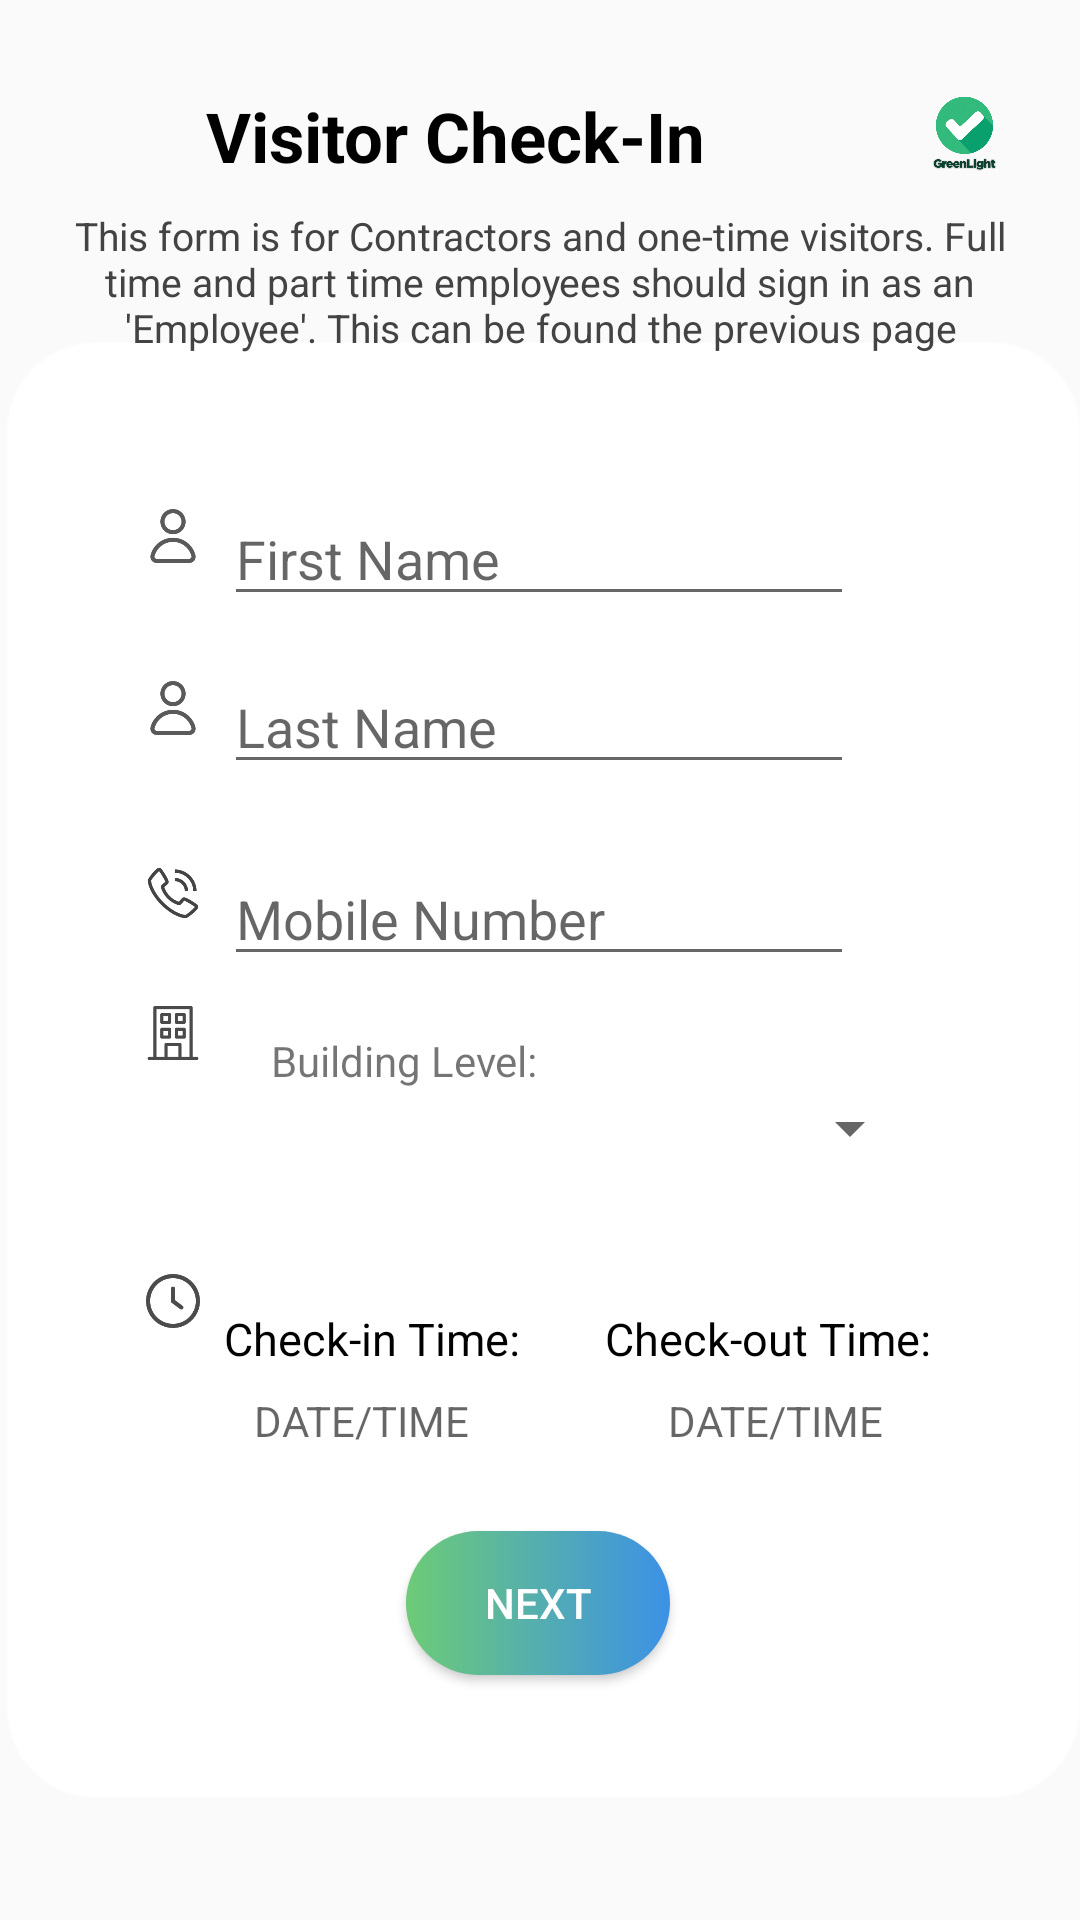

Named icons in this screenshot (1080×1920) and their centers, point (x, y):
clock: point (173, 1301)
telephone call: point (173, 893)
user: point (173, 536), point (173, 708)
